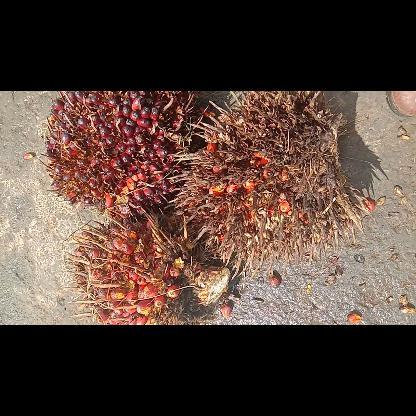TBS masak: (38, 91, 194, 219), (62, 208, 230, 324)
Terlalu masak: (166, 91, 372, 279)
